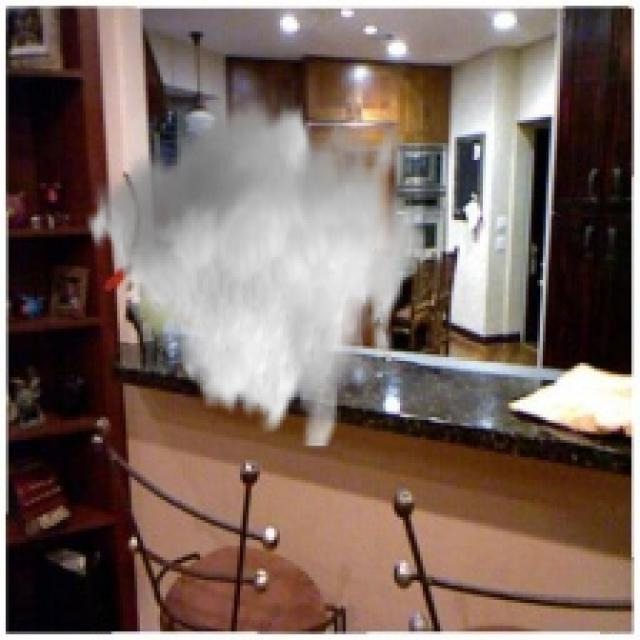smoke: (80, 91, 426, 448)
